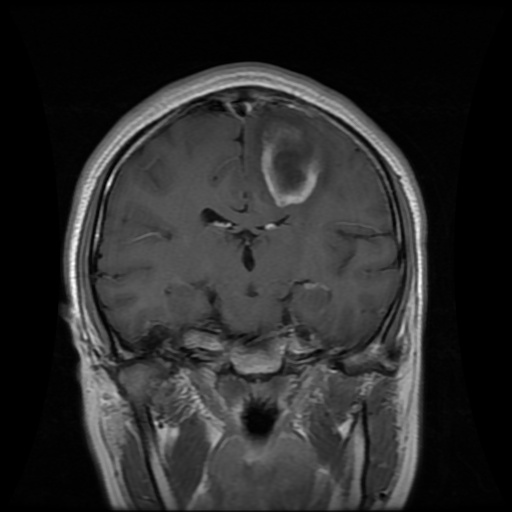glioma: (250, 105, 324, 208)
